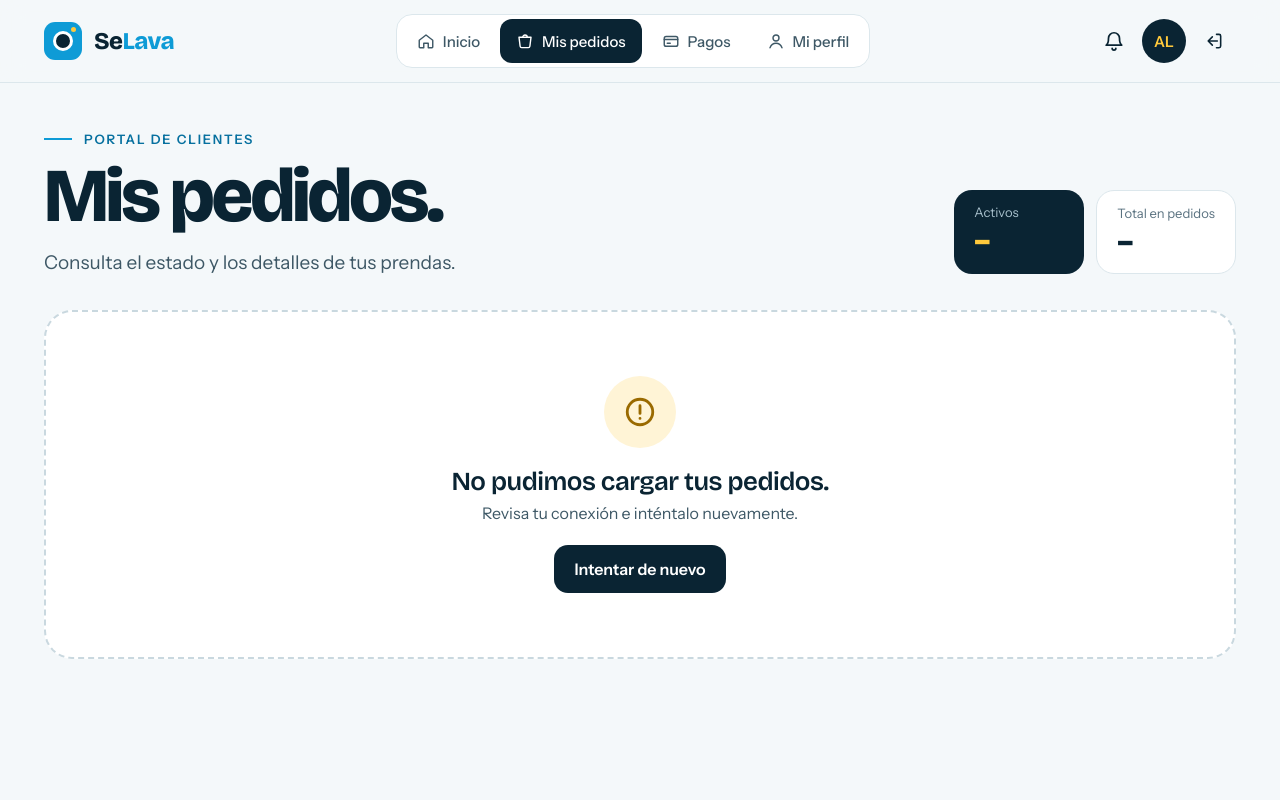
it: pedidos del cliente SEL-105 › muestra error y permite reintentar
Check: the message shows "No pudimos cargar tus pedidos", box [451,466,828,498]
Click the button "Intentar de nuevo": (640, 570) [554,546,726,594]
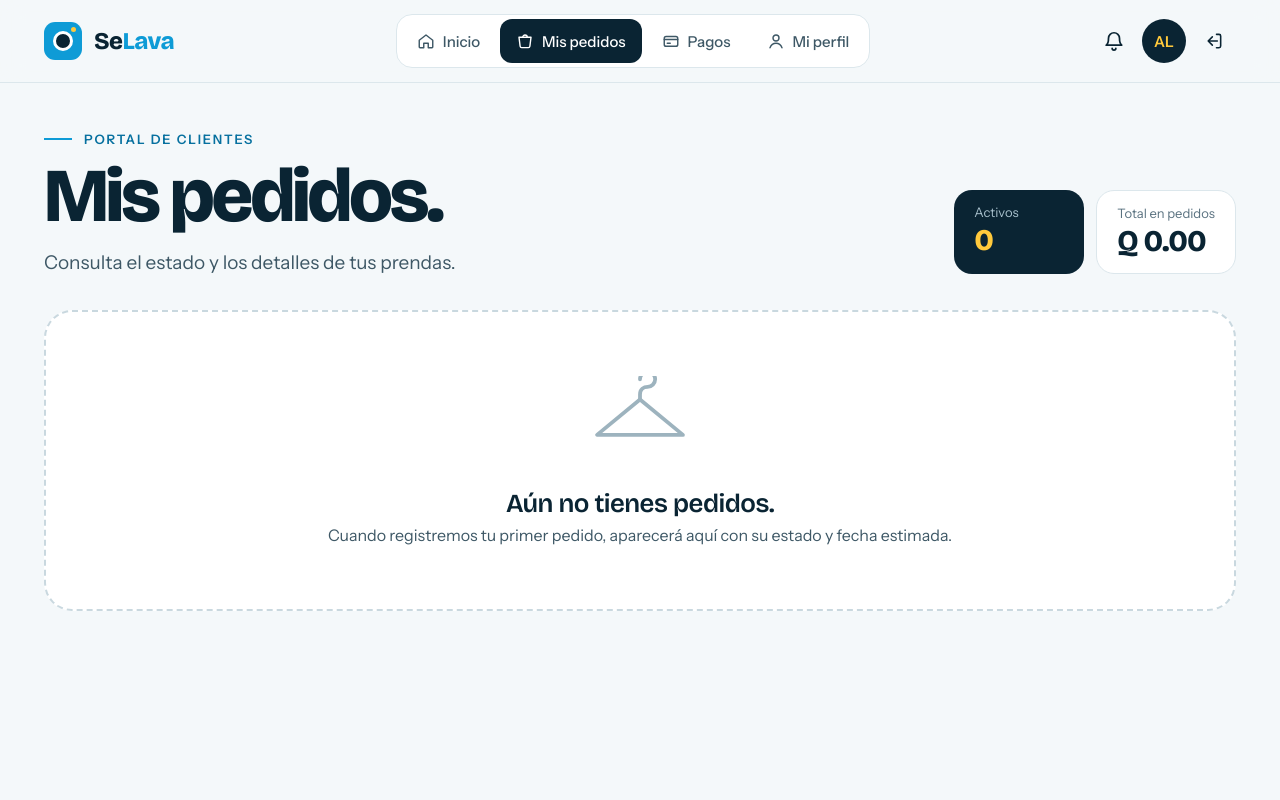
Check: the heading "Aún no tienes pedidos." is shown, box [506,488,774,520]
